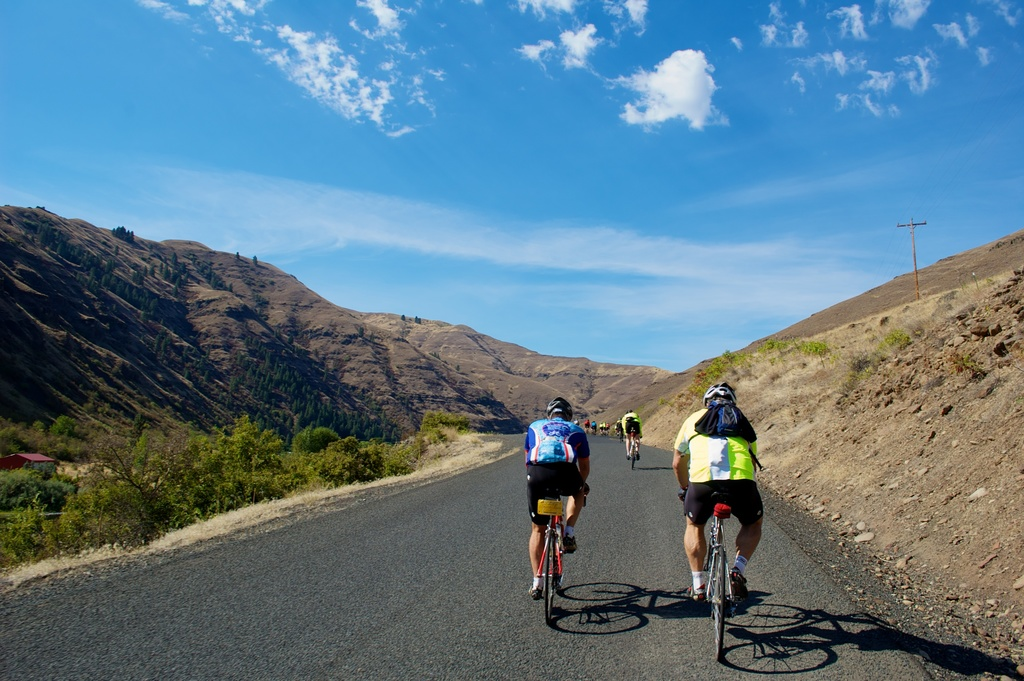Bike: (698, 494, 761, 663), (513, 496, 588, 626)
